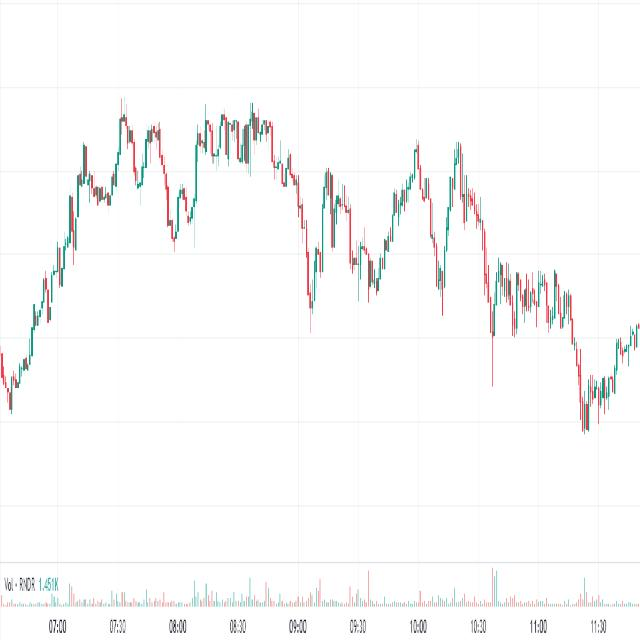Triangle: (481, 225, 599, 383)
rectangle: (189, 91, 279, 176)
